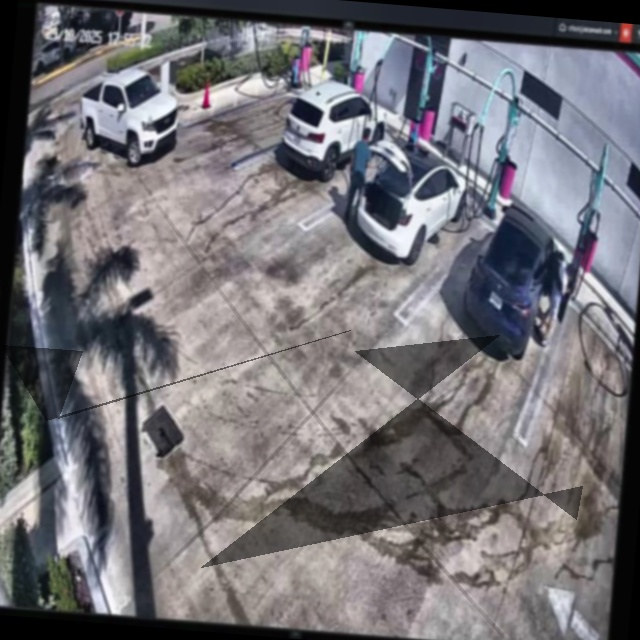Car: (456, 195, 564, 365), (346, 133, 470, 267), (280, 84, 386, 187), (76, 65, 182, 167)
